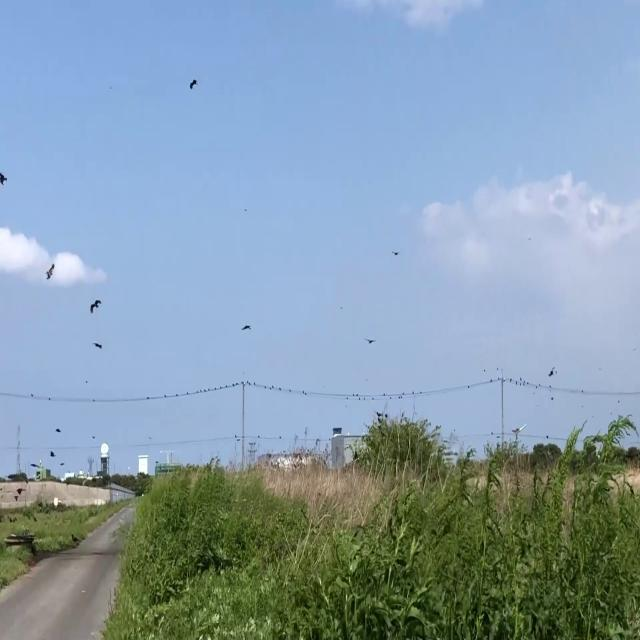bird: (0, 161, 8, 190), (91, 293, 101, 316), (47, 257, 54, 283), (190, 72, 197, 96), (367, 332, 375, 348), (548, 362, 555, 380), (50, 445, 55, 461)
